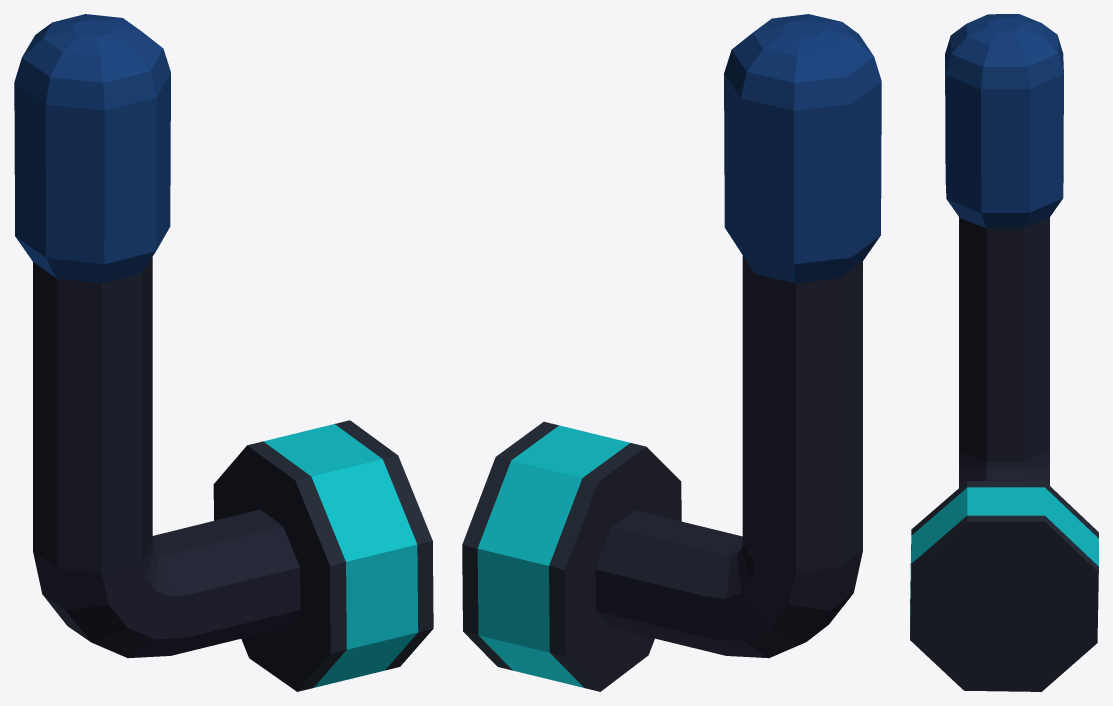
Rendered from DispenserHandle.012.fbx.
3 views of the same model, side by side, from view 1: azimuth 30°, elevation 25°; view 2: azimuth 150°, elevation 25°; view 3: azimuth 270°, elevation 25° (orthographic). The views are drawn at different scales.
Parts seen in each view (by area): view 1: DispenserHandle.012; view 2: DispenserHandle.012; view 3: DispenserHandle.012.
Part boxes in pixels (box(x1,y1,x2,y2)): DispenserHandle.012: box(14, 14, 433, 691); DispenserHandle.012: box(462, 14, 881, 691); DispenserHandle.012: box(910, 14, 1098, 691).
Size of the model in its own units: 35.66 by 67.96 by 20.89.
